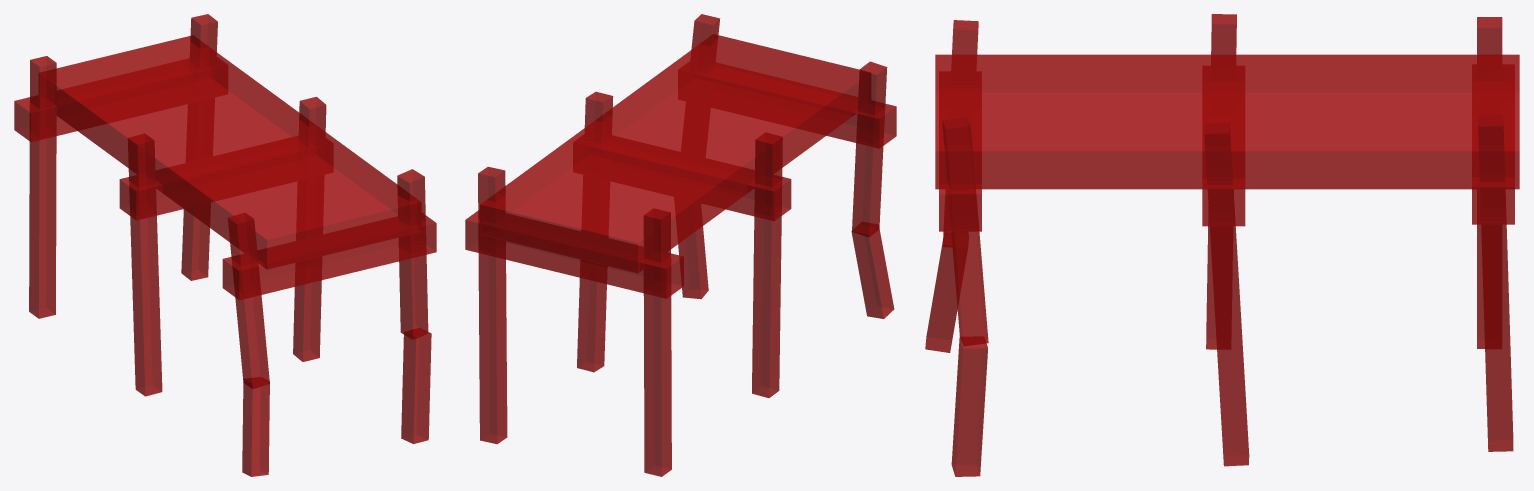
File: SM_Prop_Jetty_02_Collision.fbx
The picture shows the model from 3 angles, left to right: view 1: azimuth 30°, elevation 25°; view 2: azimuth 150°, elevation 25°; view 3: azimuth 270°, elevation 25°; orthographic projection. The views are drawn at different scales.
Visible parts, largest first — view 1: SM_Prop_Jetty_02_Collision; view 2: SM_Prop_Jetty_02_Collision; view 3: SM_Prop_Jetty_02_Collision.
Boxes of the visible parts, bbox=[...] form: SM_Prop_Jetty_02_Collision: bbox=[14, 14, 436, 476]; SM_Prop_Jetty_02_Collision: bbox=[465, 14, 896, 476]; SM_Prop_Jetty_02_Collision: bbox=[925, 14, 1519, 476].
Bounding box in the file's own units: 211 × 273 × 422.
